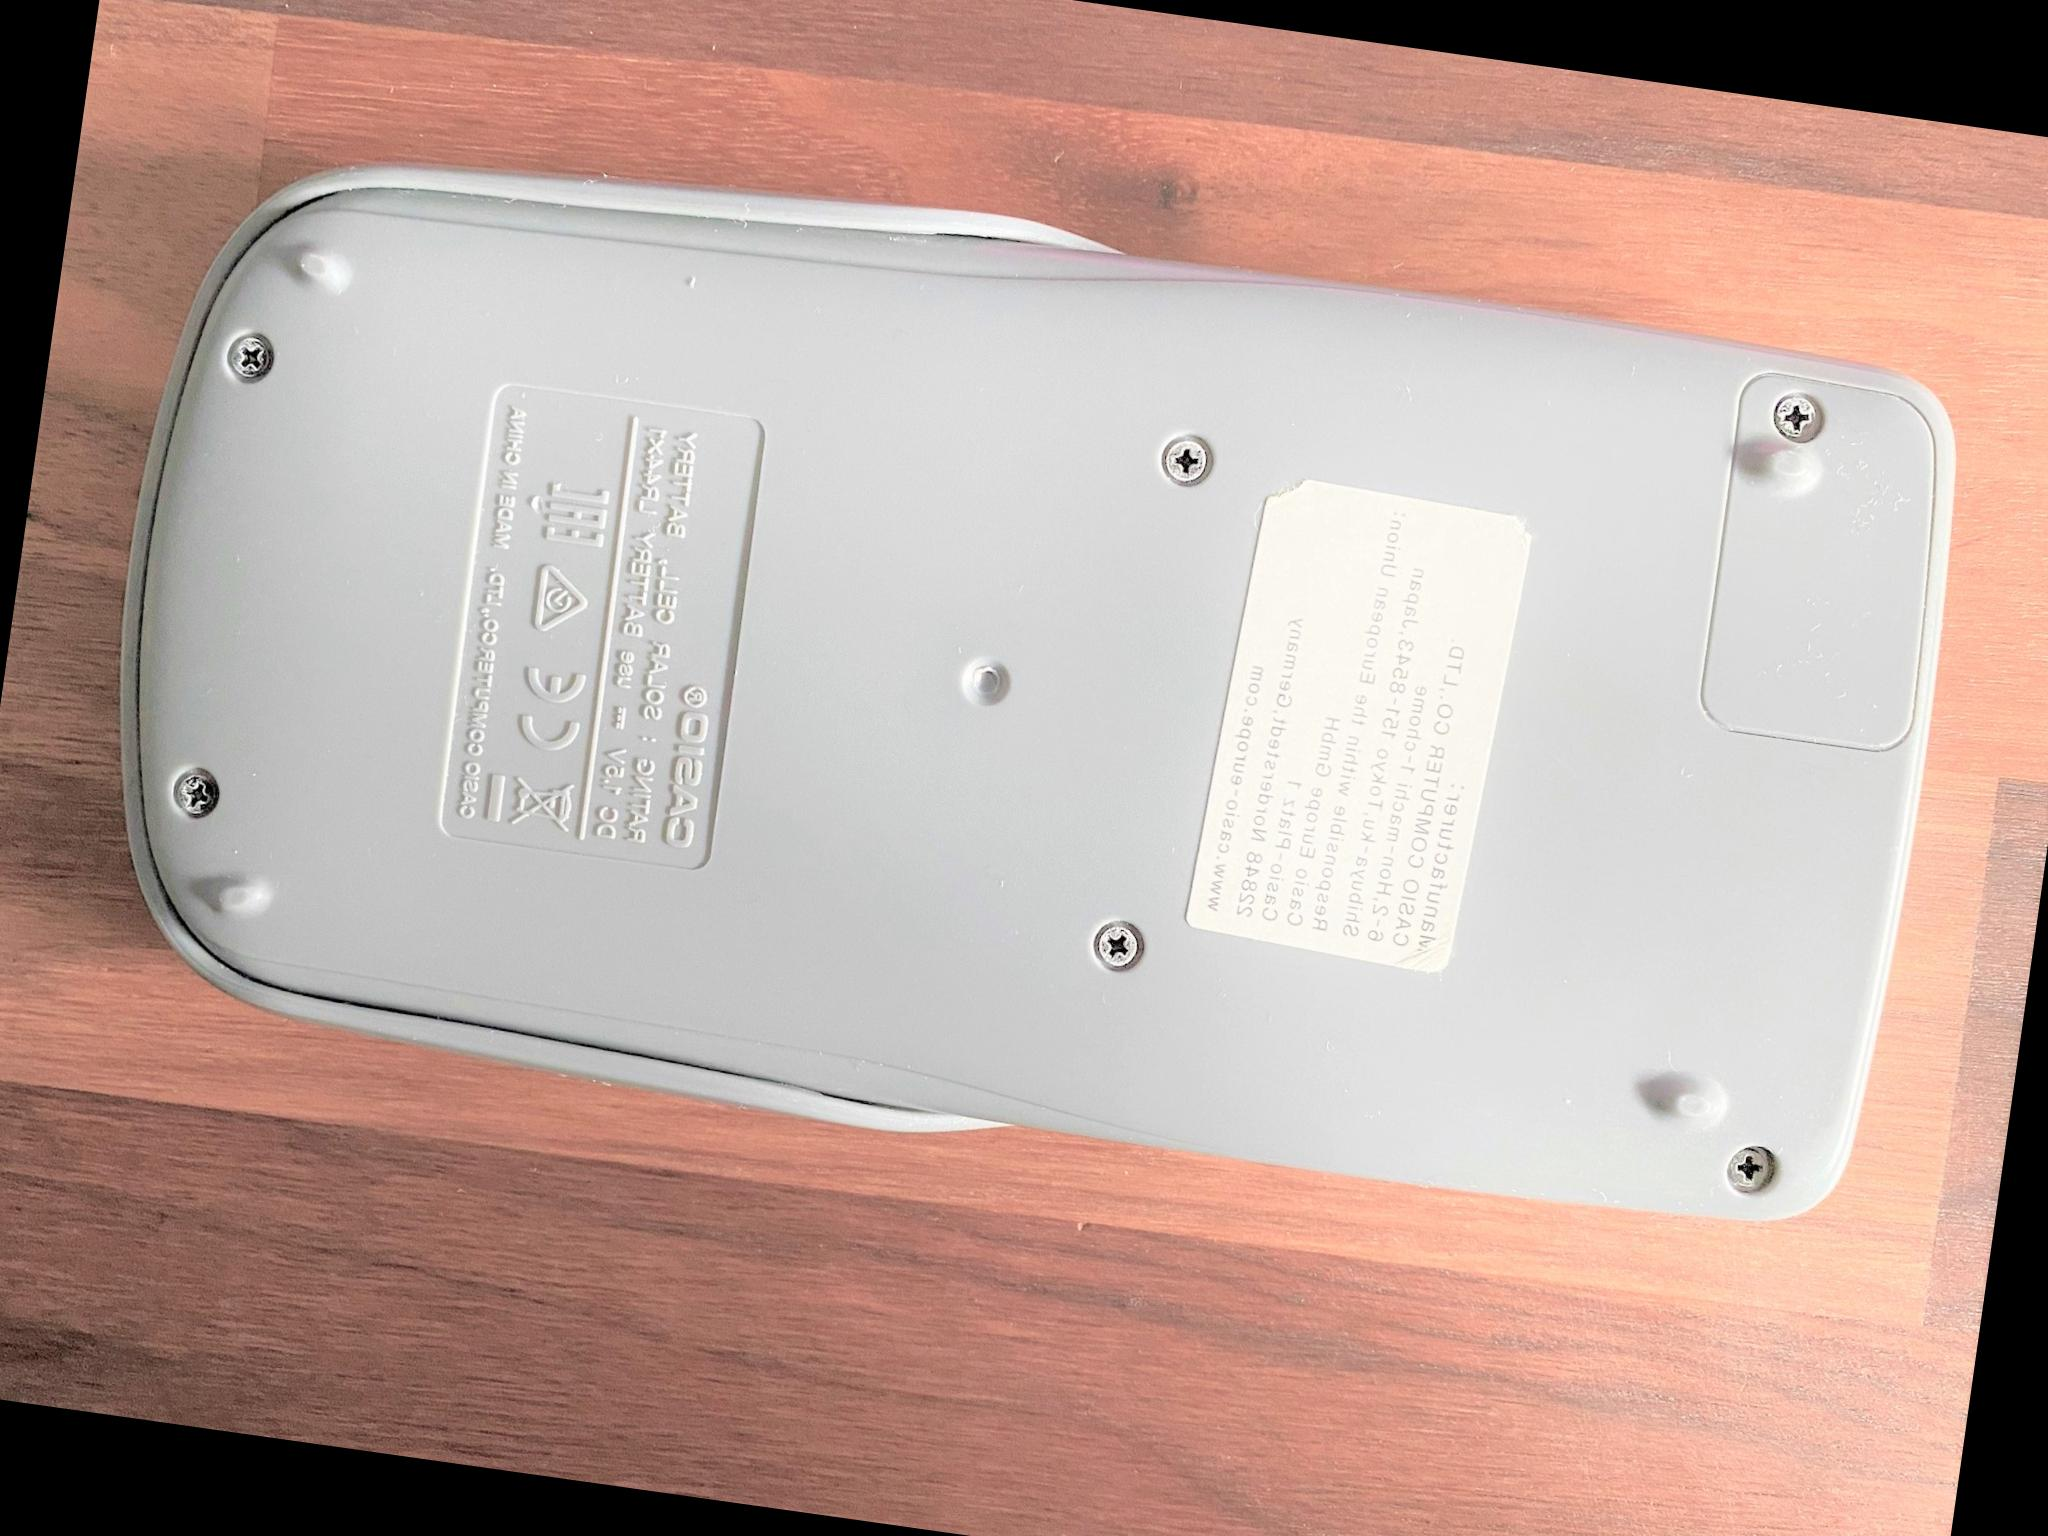PH: (1769, 388, 1826, 444), (1159, 431, 1212, 488), (169, 768, 221, 818), (1723, 1143, 1772, 1195), (225, 330, 274, 380), (1092, 919, 1138, 971)
